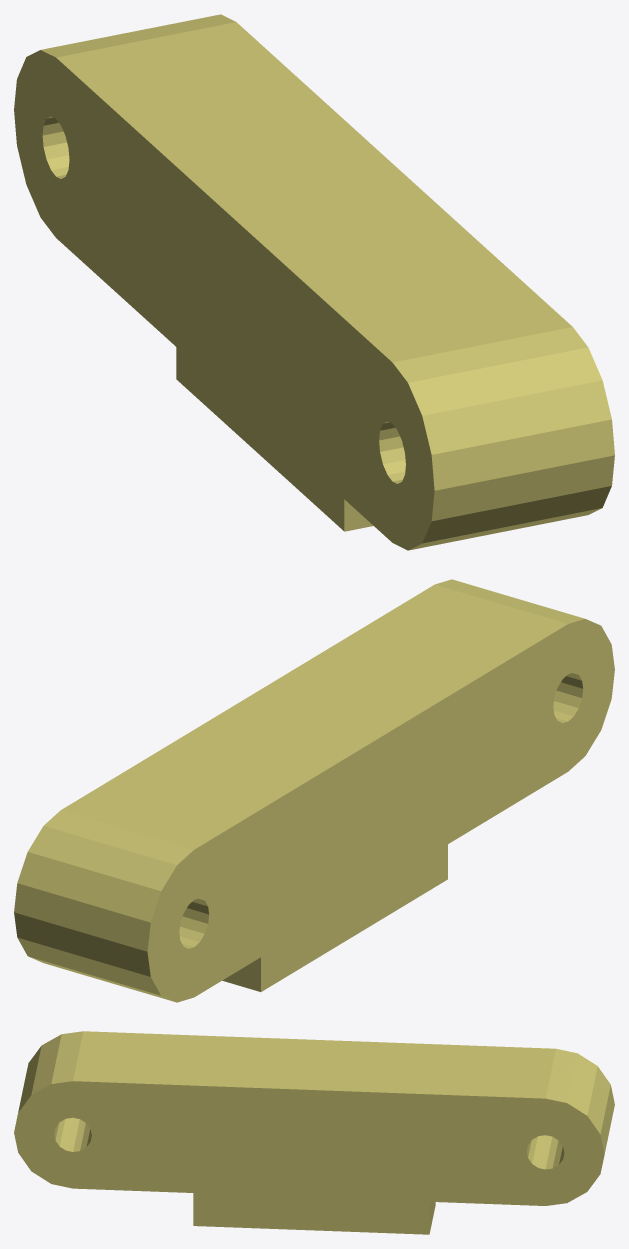
The model's file is LARM_INDEX3_LINK_mesh.dae.
The picture shows the model from 3 angles, top to bottom: view 1: azimuth 30°, elevation 25°; view 2: azimuth 150°, elevation 25°; view 3: azimuth 270°, elevation 25°; orthographic projection. The views are drawn at different scales.
Visible parts, largest first — view 1: LARM_INDEX3_LINK; view 2: LARM_INDEX3_LINK; view 3: LARM_INDEX3_LINK.
Boxes of the visible parts, <box> form: LARM_INDEX3_LINK: <box>14,14,614,550</box>; LARM_INDEX3_LINK: <box>14,579,614,1002</box>; LARM_INDEX3_LINK: <box>14,1031,614,1234</box>.
Size of the model in its own units: 0.0143 by 0.014 by 0.0507.
